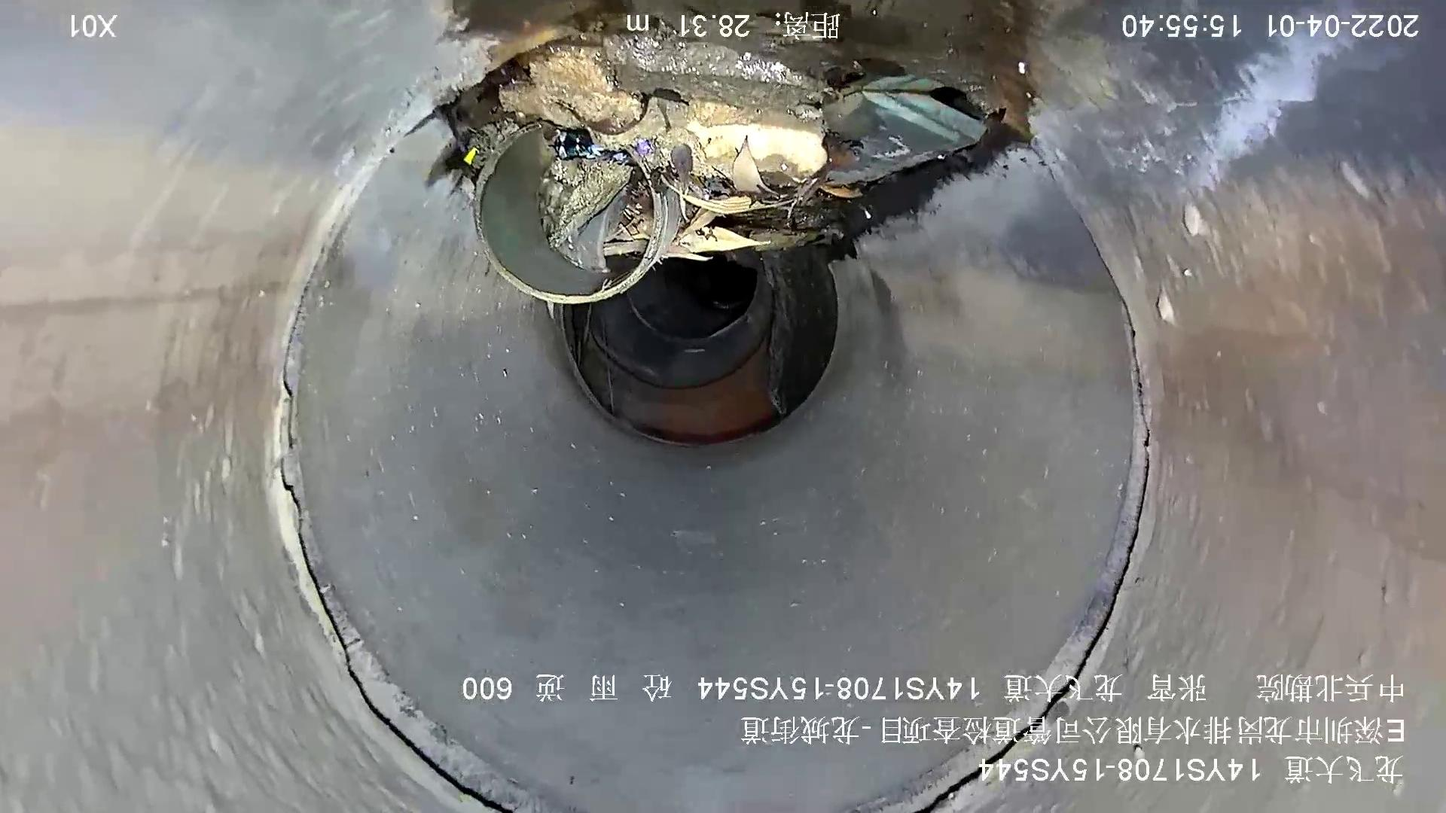CKTJ: (265, 86, 568, 813), (850, 206, 1150, 813)
ZAW: (447, 16, 984, 305)
